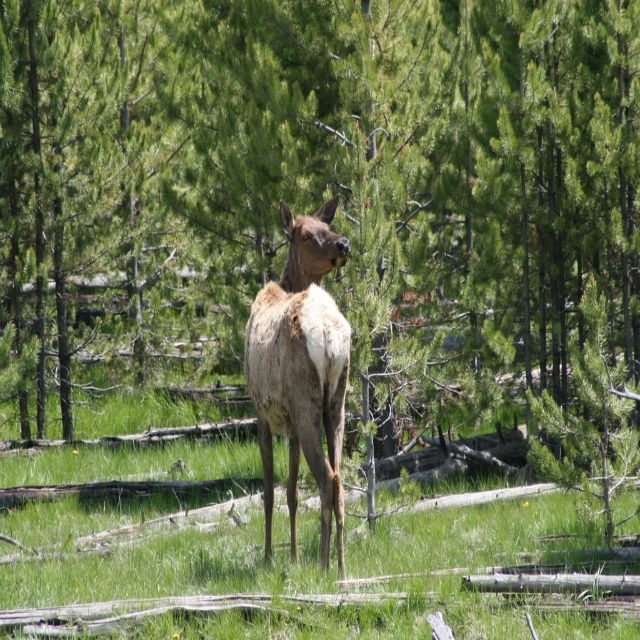Deer: (246, 195, 347, 576)
